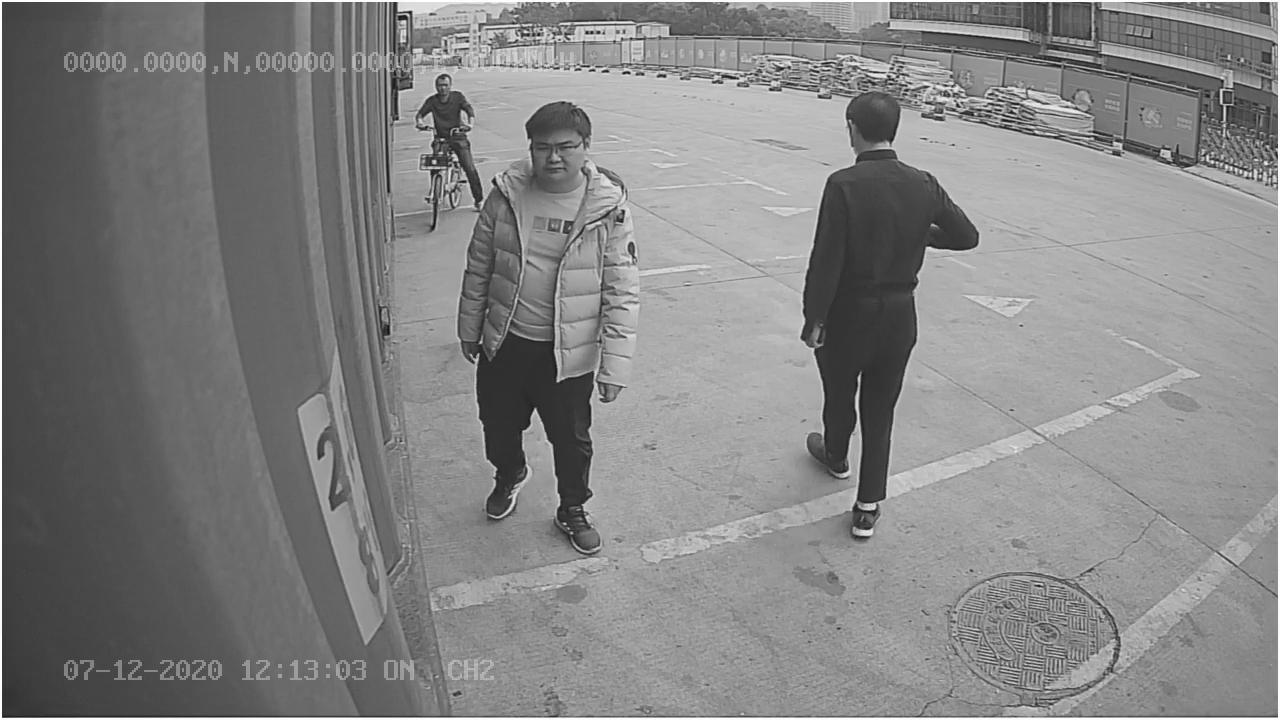person: (446, 85, 641, 571), (796, 79, 970, 542)
